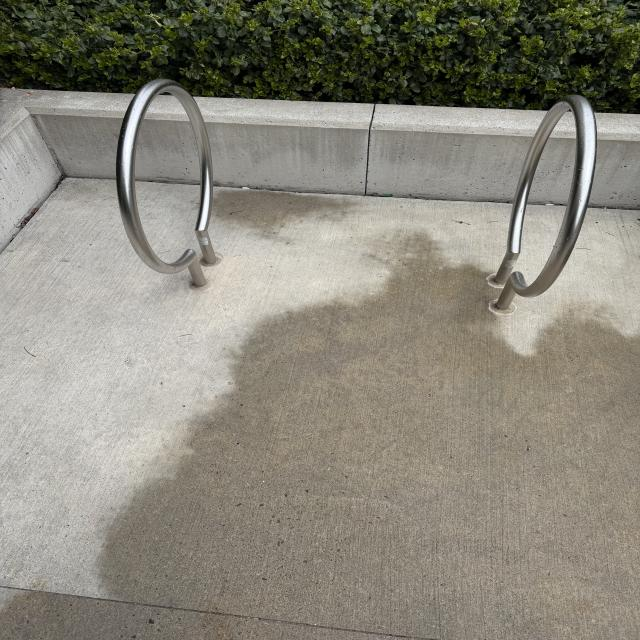Bicycle Rack: (484, 94, 598, 316), (114, 79, 223, 290)
